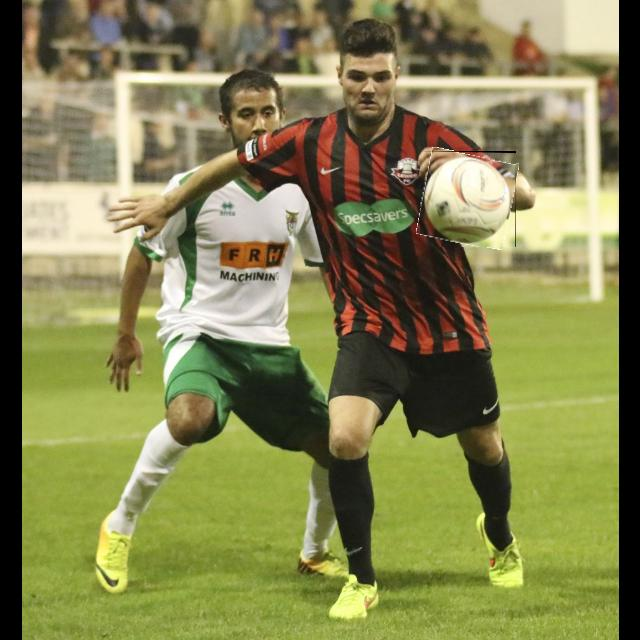Football: (420, 151, 516, 247)
